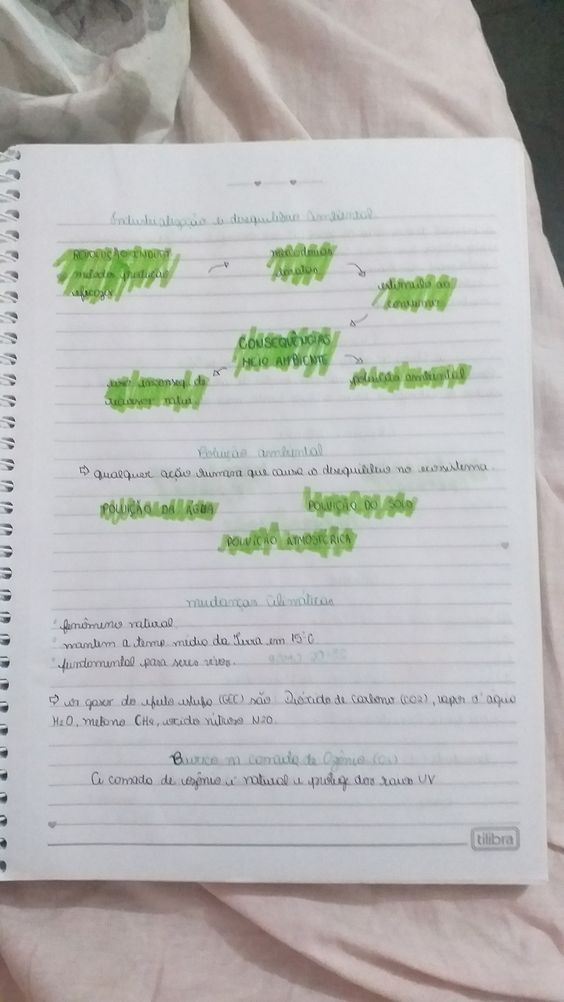page: (29, 147, 529, 877)
